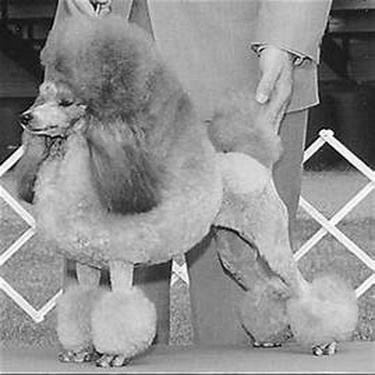dog: (10, 8, 366, 371)
